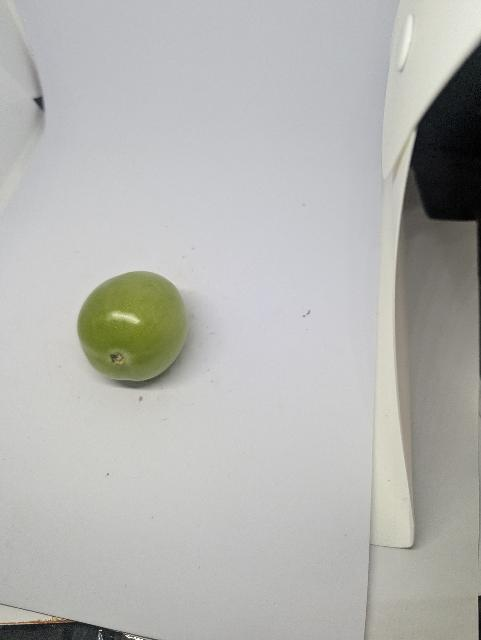green: (71, 263, 202, 398)
